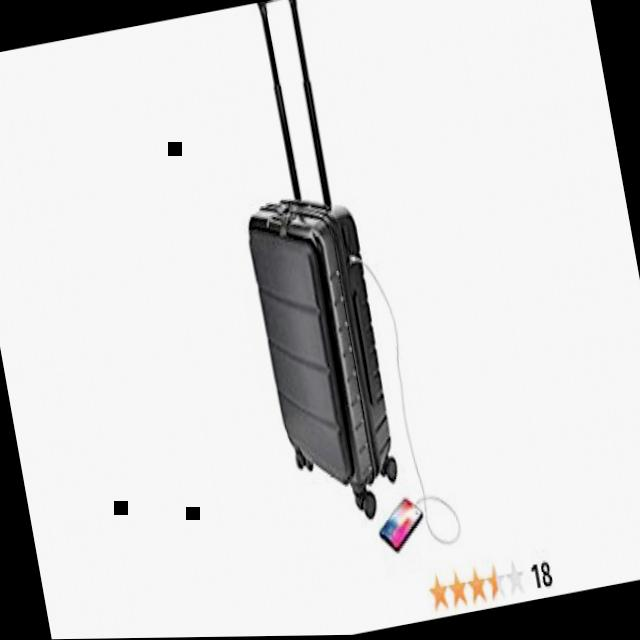luggage: (237, 176, 408, 532)
